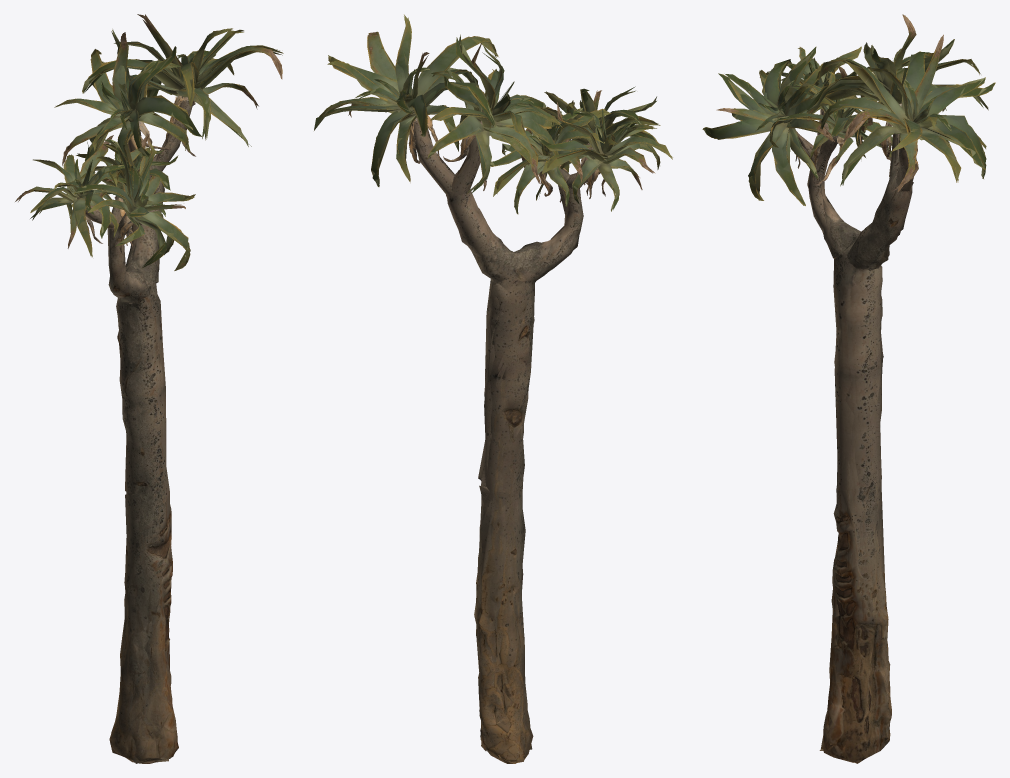
The model's file is dry-tree.glb.
The picture shows the model from 3 angles, left to right: view 1: azimuth 30°, elevation 25°; view 2: azimuth 150°, elevation 25°; view 3: azimuth 270°, elevation 25°; orthographic projection. The views are drawn at different scales.
Parts seen in each view (by area): view 1: LOD0_1, LOD0_0, LOD1_0, LOD1_1; view 2: LOD0_1, LOD0_0, LOD1_0, LOD1_1; view 3: LOD0_1, LOD0_0, LOD1_1, LOD1_0.
Boxes of the visible parts, x1,y1,x2,y2 form: LOD0_1: (77,101,192,763); LOD0_0: (15,14,283,270); LOD1_0: (18,14,282,270); LOD1_1: (88,108,184,763); LOD0_1: (412,120,600,763); LOD0_0: (314,14,672,214); LOD1_0: (314,17,672,212); LOD1_1: (415,126,588,763); LOD0_1: (796,103,913,762); LOD0_0: (703,14,995,205); LOD1_1: (797,109,913,763); LOD1_0: (702,15,992,205).
Size of the model in its own units: 3.05 by 7 by 2.51.
Materials: 2 (2 with a texture image).
